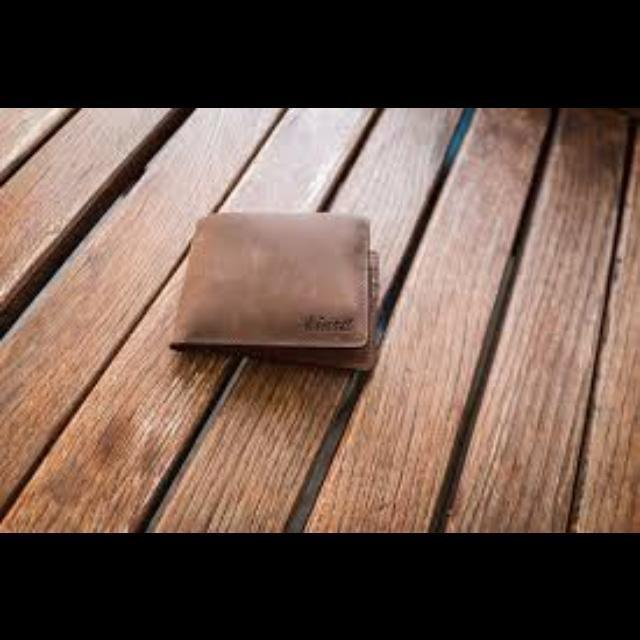Wallet: (142, 178, 488, 442)
